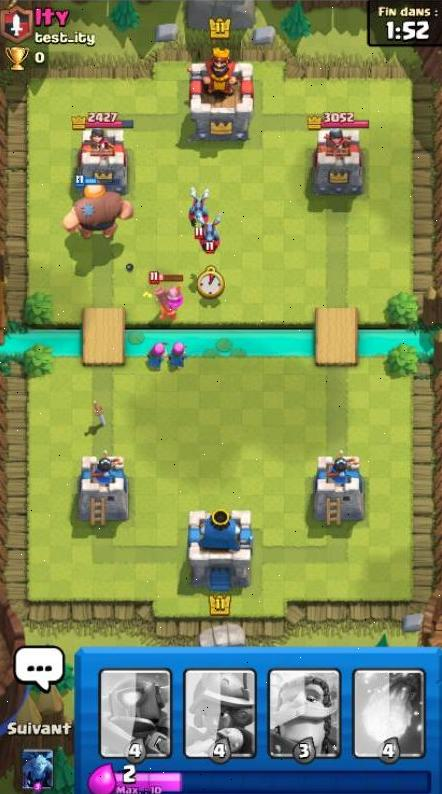enemy_minions: (195, 216, 224, 253), (186, 190, 213, 223)
enemy_musketeer: (142, 270, 187, 317)
player_archers: (143, 336, 170, 371), (167, 335, 191, 371)
player_giant: (59, 176, 138, 244)
